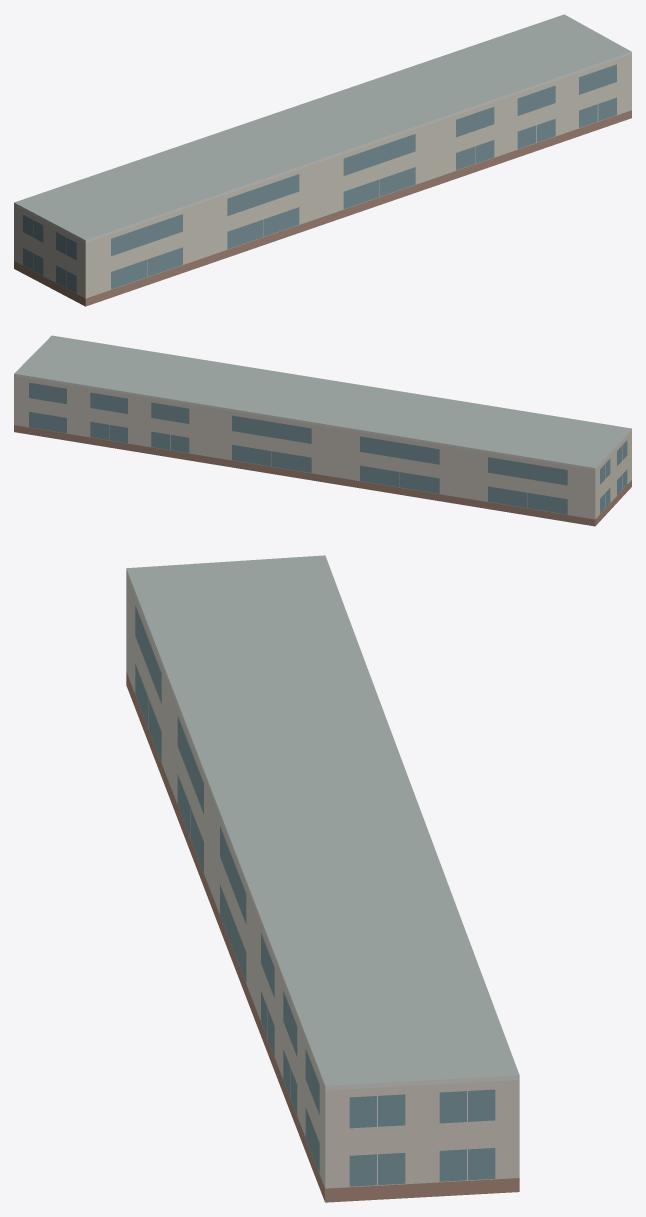
Rendered from survey-upis-32796293.glb.
3 views of the same model, one above another, from view 1: azimuth 30°, elevation 25°; view 2: azimuth 150°, elevation 25°; view 3: azimuth 270°, elevation 25° (orthographic). The views are drawn at different scales.
Parts seen in each view (by area): view 1: survey-upis-32796293.tmp; view 2: survey-upis-32796293.tmp; view 3: survey-upis-32796293.tmp.
Boxes of the visible parts, x1,y1,x2,y2 form: survey-upis-32796293.tmp: (14,14,631,306); survey-upis-32796293.tmp: (14,335,631,526); survey-upis-32796293.tmp: (126,555,519,1202).
Size of the model in its own units: 59.45 by 6.1 by 18.64.
